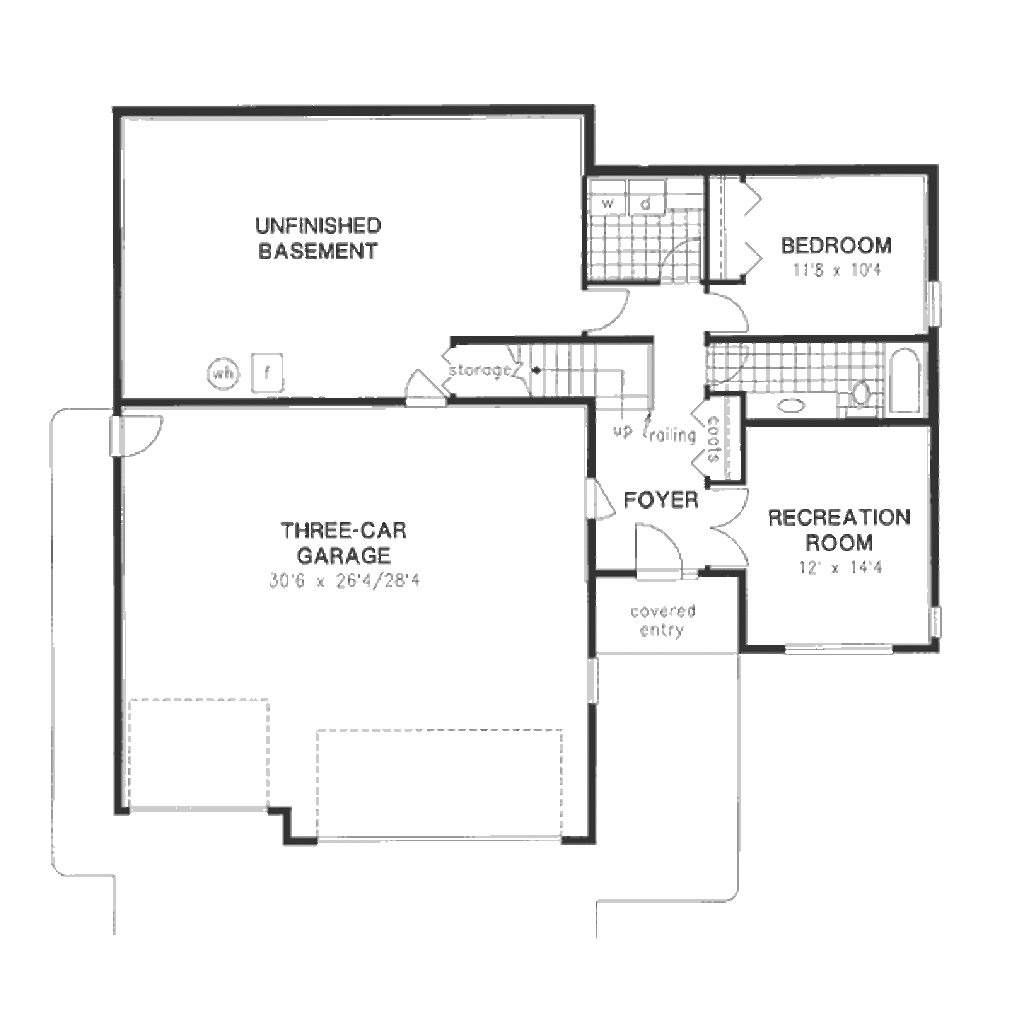door: (703, 489, 759, 574), (100, 403, 169, 466), (633, 524, 691, 589), (703, 339, 755, 388), (583, 283, 630, 335), (706, 291, 752, 342), (656, 236, 706, 282)
large_sink: (841, 377, 884, 421)
small_sink: (759, 389, 827, 424)
stairs: (506, 332, 663, 428)
tub: (883, 339, 927, 419)
window: (770, 638, 894, 657), (917, 275, 950, 335), (580, 657, 609, 713)
